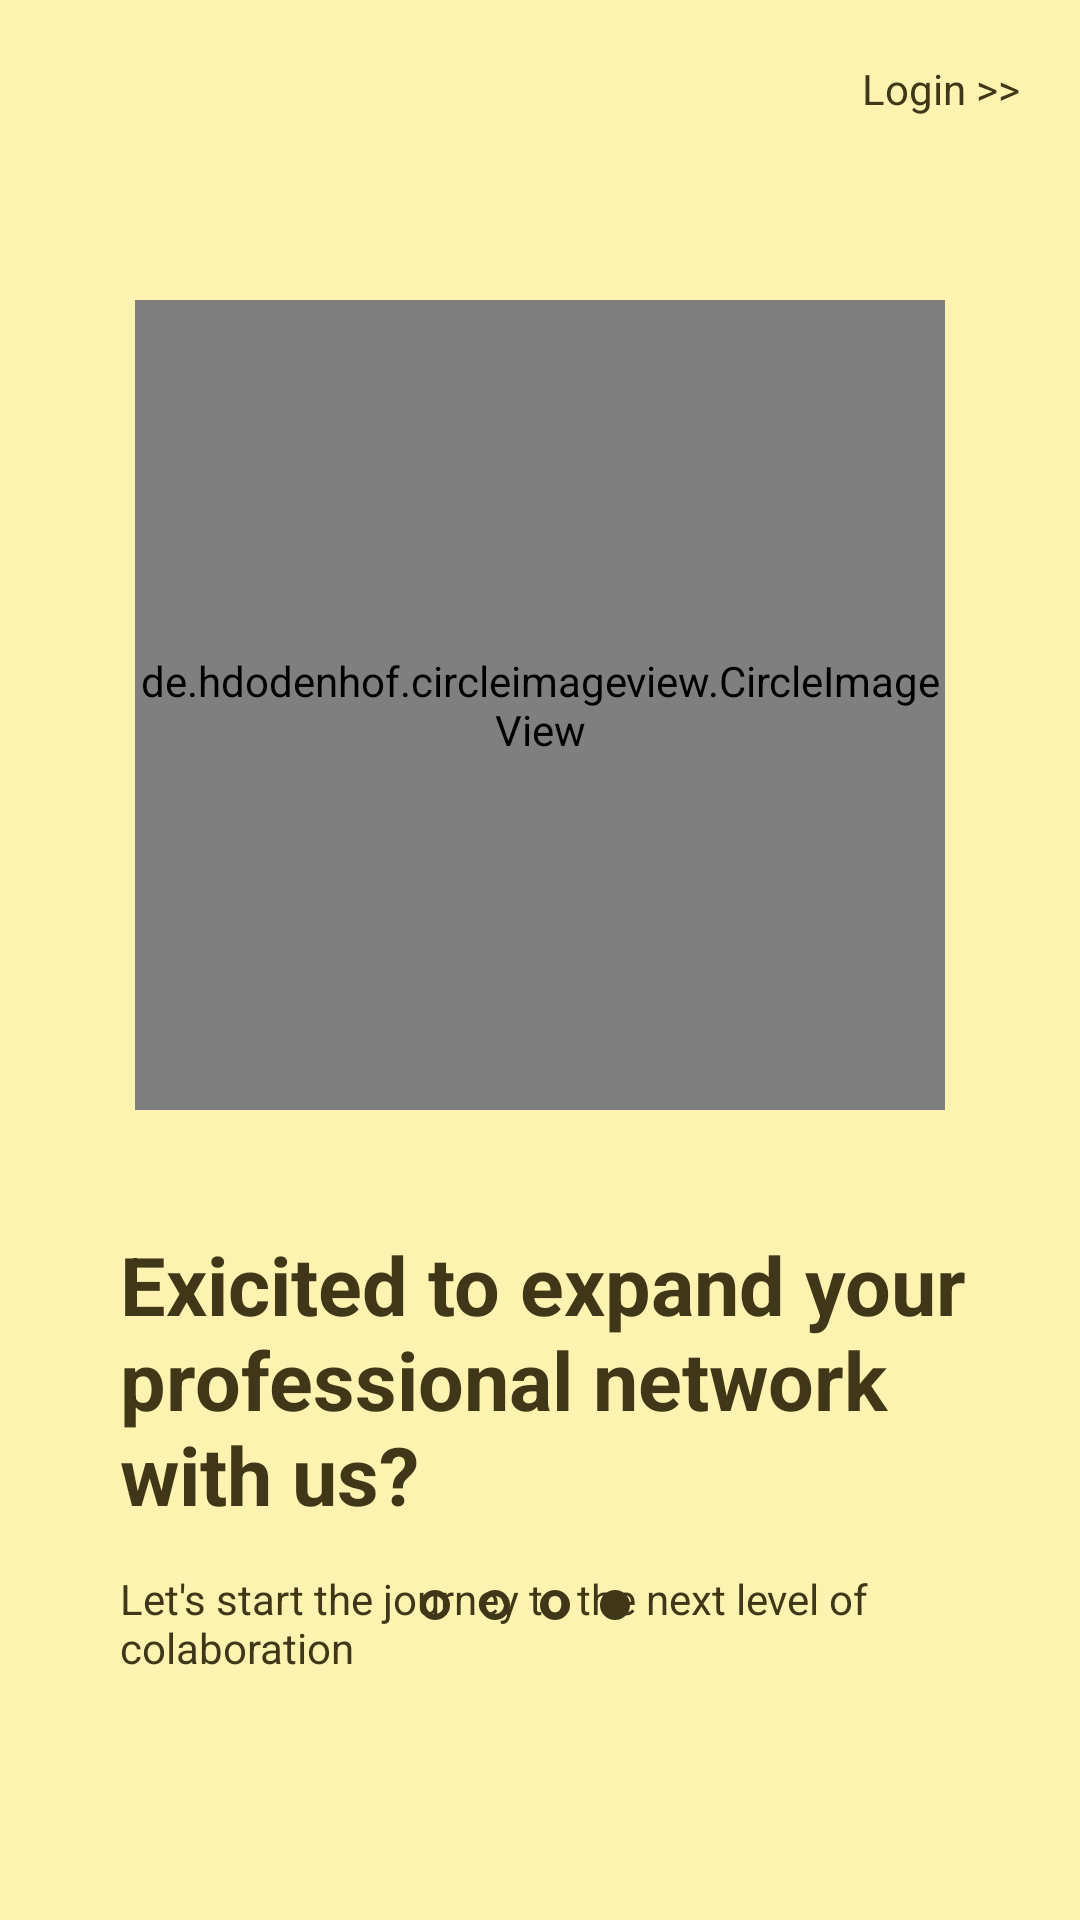

Icons on this 1080px x 1920px Android screen, each with its box as (x1, y1, x2, y2):
circle: (600, 1590, 630, 1620)
